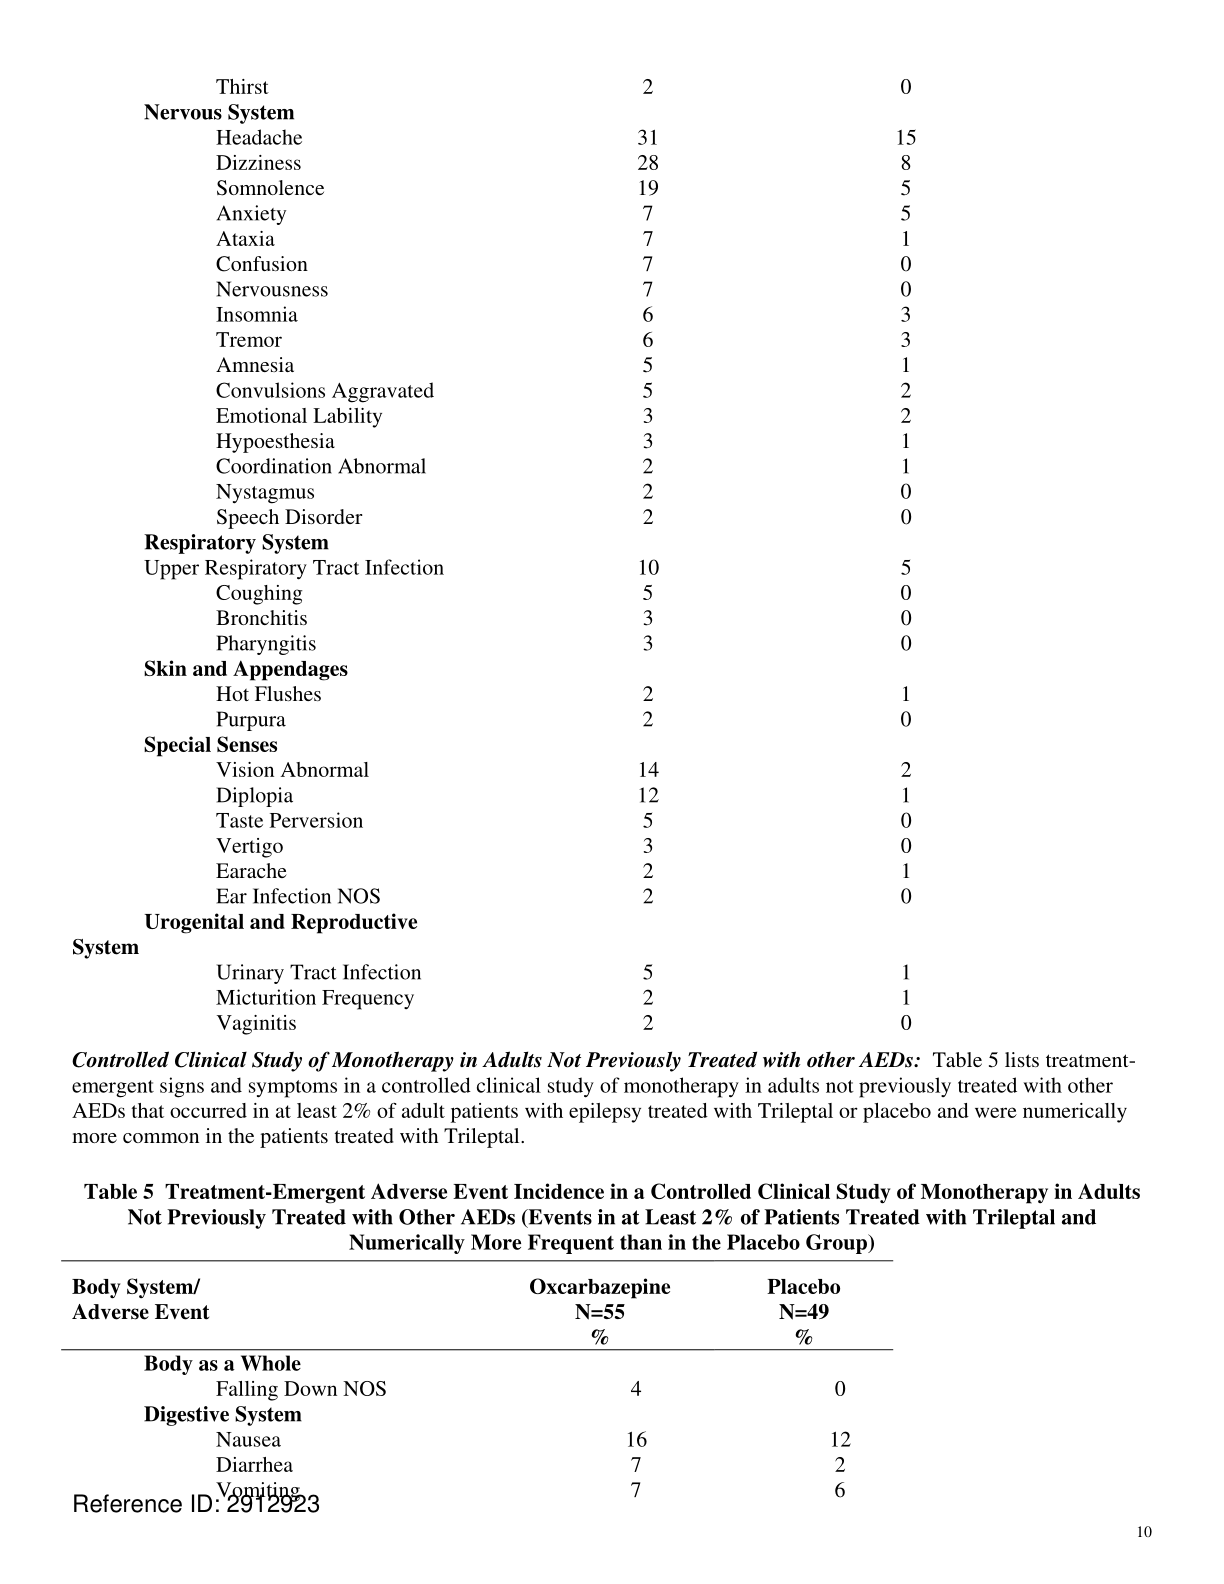nolines: (72, 72, 918, 1038)
partial_lined: (60, 1259, 894, 1495)
